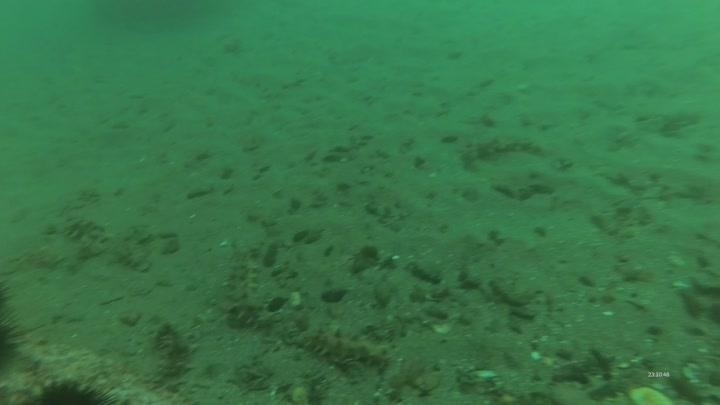echinus: (28, 371, 119, 405), (1, 311, 27, 375)
holothurian: (294, 322, 392, 371), (222, 244, 272, 330), (149, 316, 197, 389), (457, 130, 547, 167), (59, 212, 113, 263)
